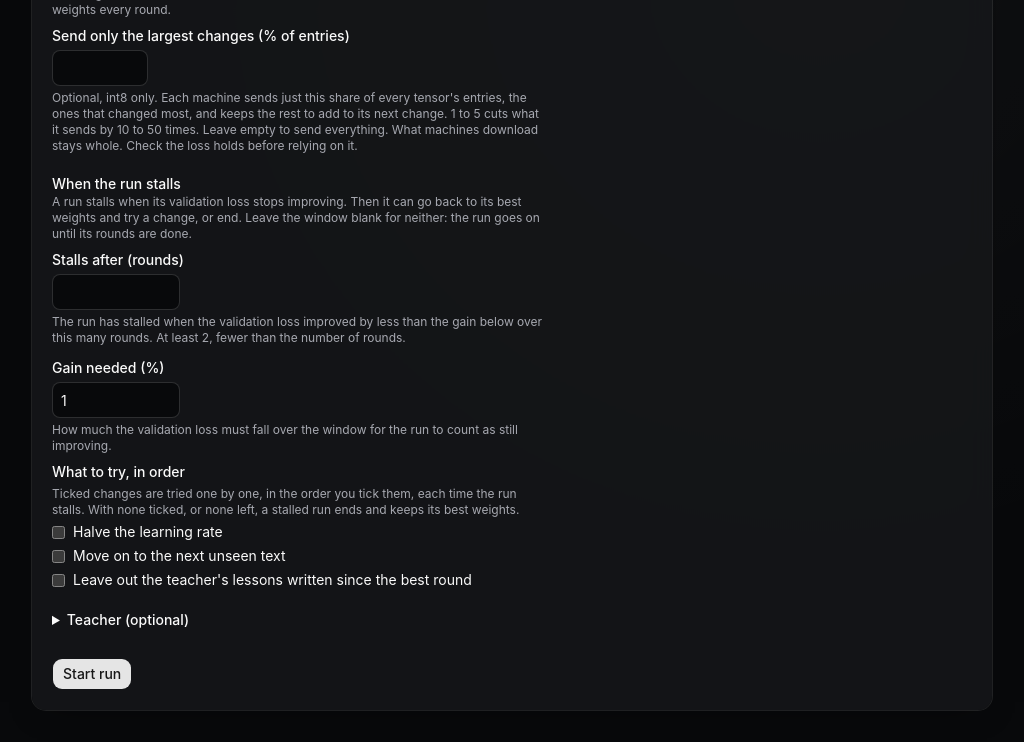
Training tab: the start form › a teacher with no polish and no target says so beside Start, and keeps it off
(page scrolled)
Click the heading "Teacher (optional)". click: (128, 620)
box: [67,611,189,628]
(page scrolled)
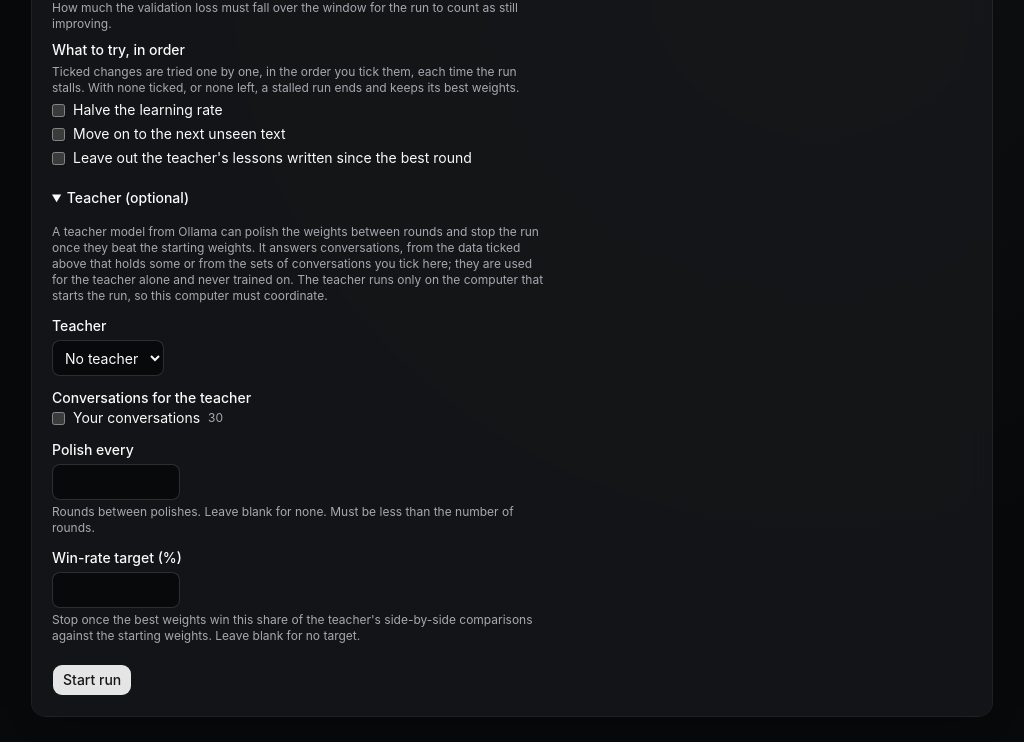
Select "judge:1b" in the dropdown labelled "Teacher". click: (108, 358)
box: [52,340,164,376]
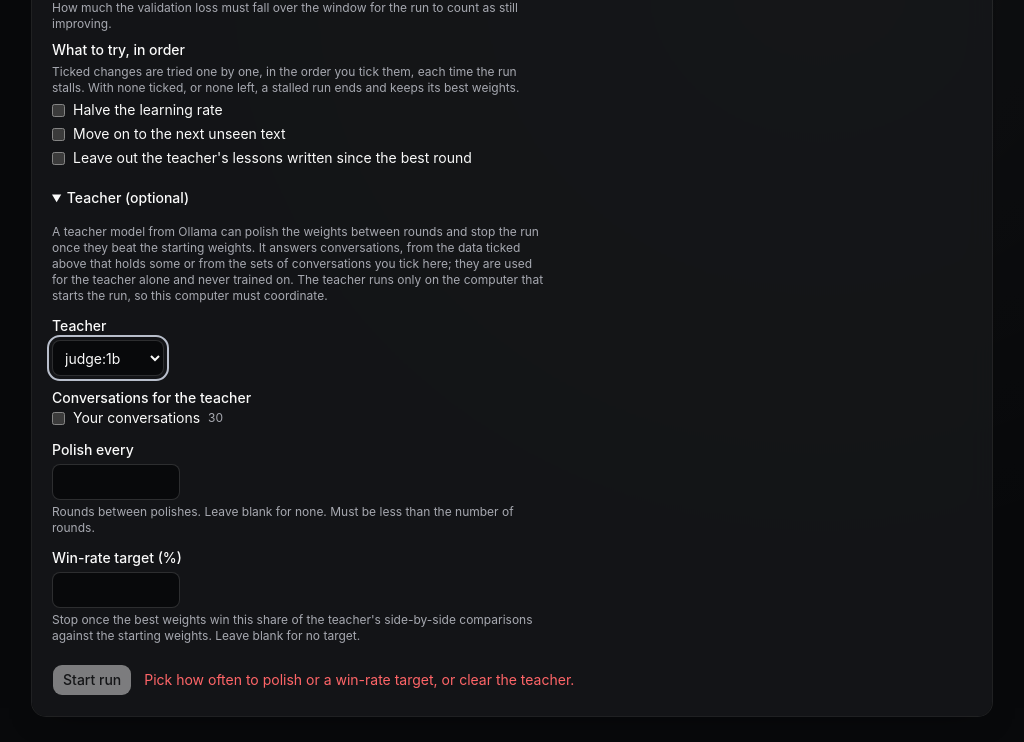
Now the button "Start run" is disabled, box [52,664,132,696]
